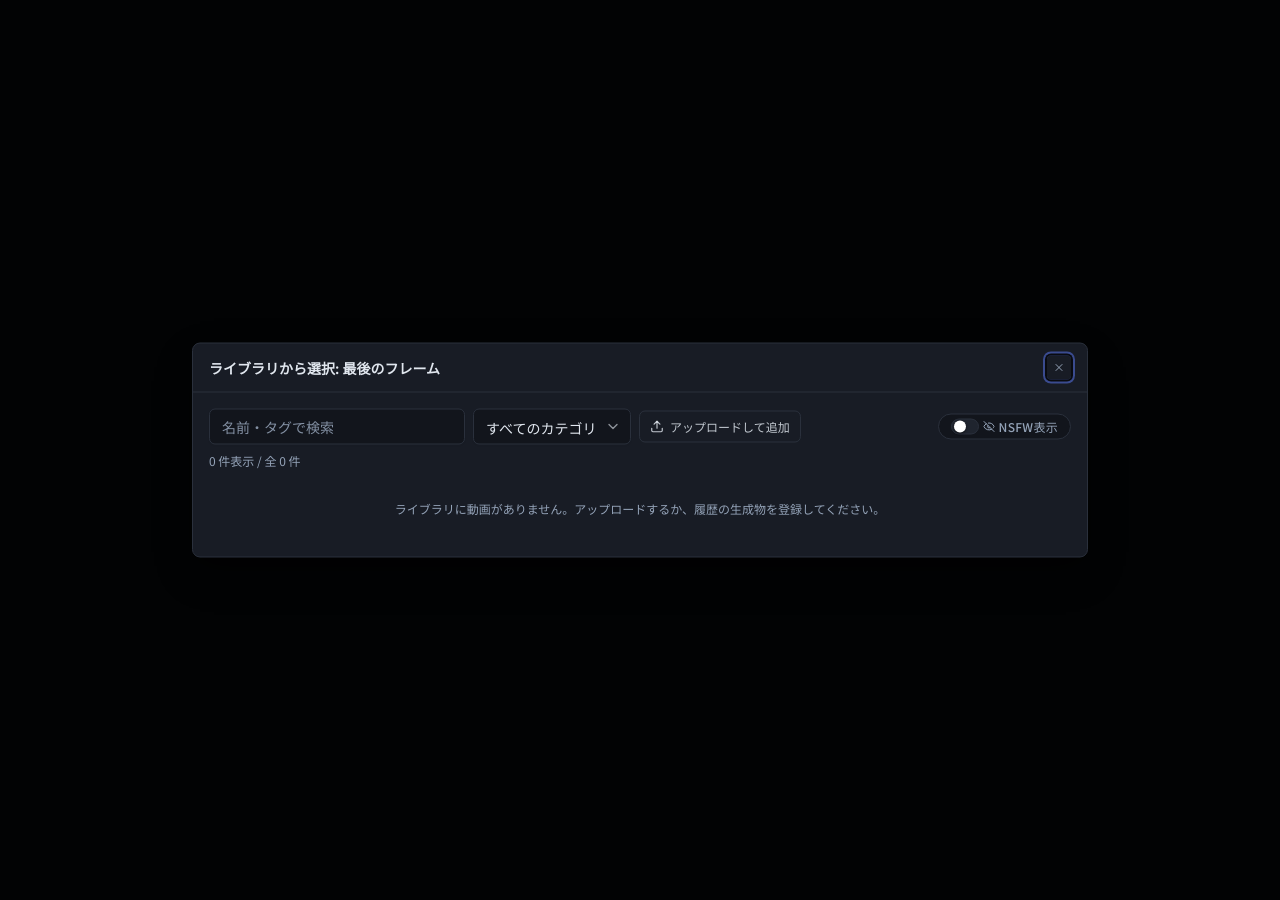
it: LibraryPickerModal › 空のときは条件の有無で案内を出し分ける
Expected: the text "ライブラリに動画がありません。アップロードするか、履歴の生成物を登録してください。" is shown, [395, 500, 885, 516]
Type "ghost" into the search field named "ライブラリを検索" at [337, 426], box [209, 408, 465, 444]
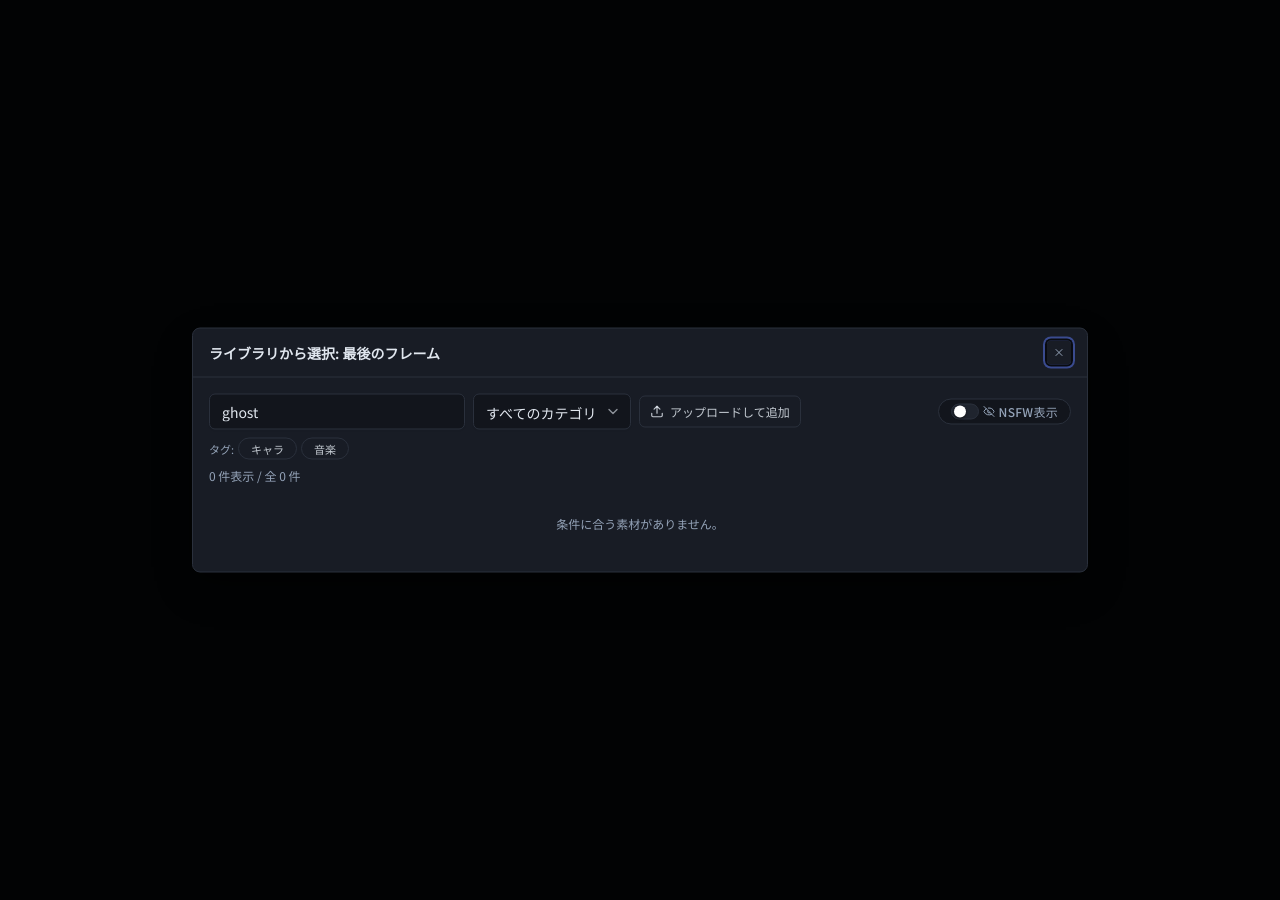
Expected: the text "条件に合う素材がありません。" is shown, [556, 514, 724, 532]
